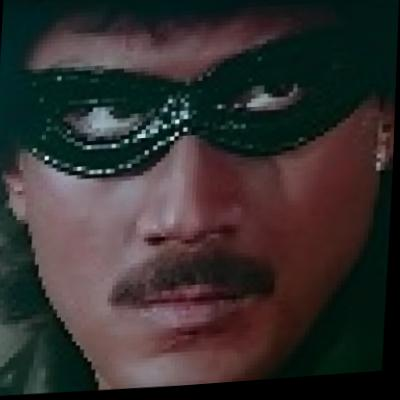angry: (24, 0, 380, 384)
